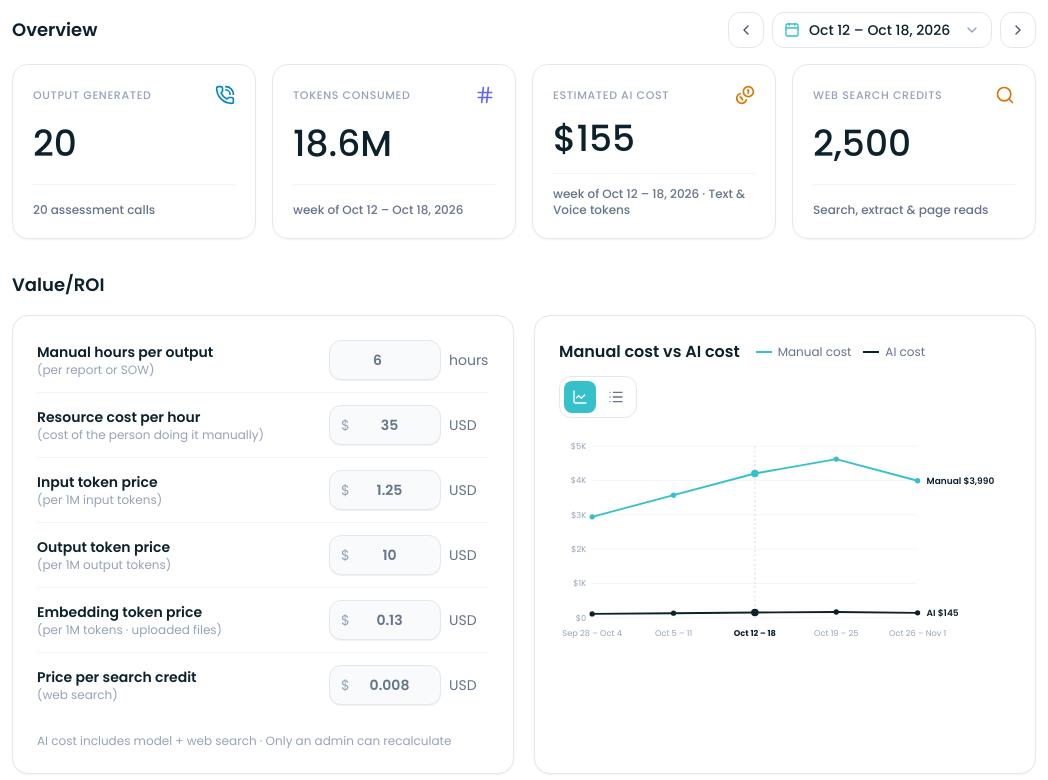
Test case: UsageInsightsScreen › moves between weeks with the arrows and the selector
The width and height of the screenshot is (1048, 780).
Click the button named "Next week". click: click(1018, 30)
box: [1000,12,1036,48]
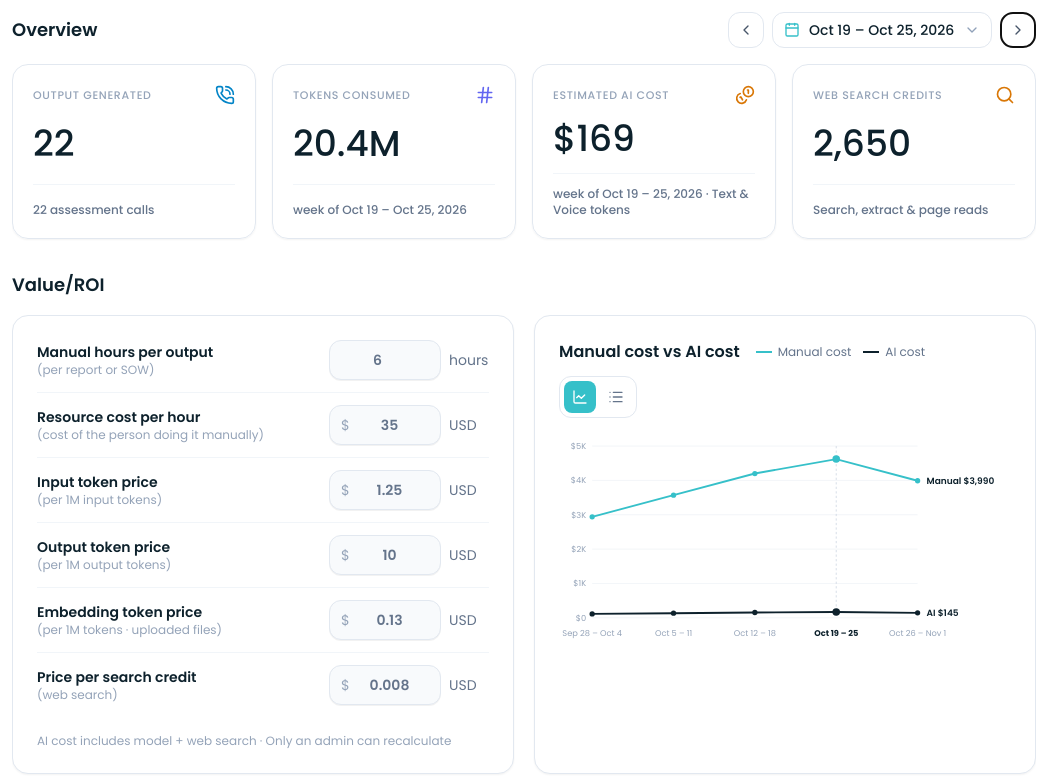
Expected: the text "22" is shown, [33,118,74,169]
Select "Sep 28 – Oct 4, 2026" in the dropdown named "Week". click: (882, 30)
box: [772,12,992,48]
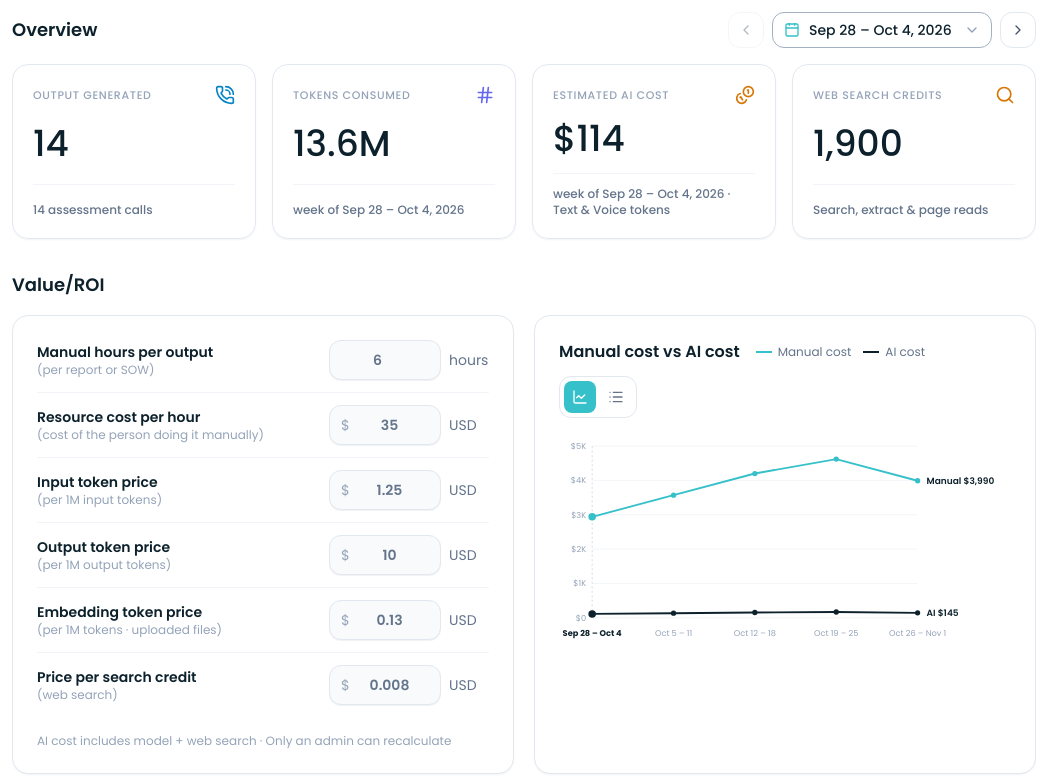
Expected: the button named "Previous week" is disabled, [728,12,764,48]
Expected: the text "14" is shown, [33,118,69,169]
